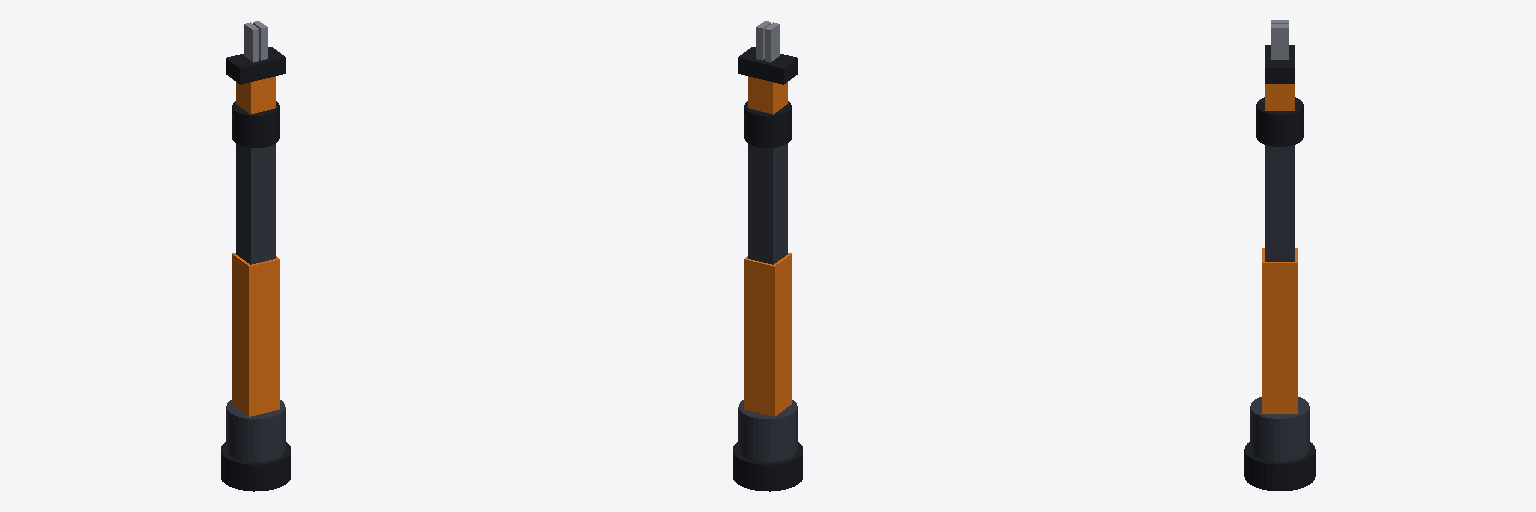
URDF robot description (arm6):
<?xml version="1.0"?>
<!--
  arm6.urdf — robot-sim-web 기본 6-DOF 로봇팔 + 평행 그리퍼
  프리미티브 지오메트리만 사용 (외부 메시 파일 불필요 — 정적 호스팅 친화).
  URDF 표준 관례상 Z-up이며, 로딩 시 scene-loader가 Y-up으로 축 변환한다 (CLAUDE.md §4).
  단위: 미터, 라디안.
-->
<robot name="arm6">

  <material name="body_dark">
    <color rgba="0.24 0.26 0.30 1.0"/>
  </material>
  <material name="accent_orange">
    <color rgba="0.90 0.49 0.13 1.0"/>
  </material>
  <material name="joint_black">
    <color rgba="0.14 0.15 0.17 1.0"/>
  </material>
  <material name="finger_gray">
    <color rgba="0.55 0.57 0.62 1.0"/>
  </material>

  <!-- ── 베이스 ─────────────────────────────────────────── -->
  <link name="base_link">
    <visual>
      <origin xyz="0 0 0.025" rpy="0 0 0"/>
      <geometry><cylinder radius="0.06" length="0.05"/></geometry>
      <material name="joint_black"/>
    </visual>
    <collision>
      <origin xyz="0 0 0.025" rpy="0 0 0"/>
      <geometry><cylinder radius="0.06" length="0.05"/></geometry>
    </collision>
    <inertial>
      <mass value="1.5"/>
      <inertia ixx="0.01" iyy="0.01" izz="0.01" ixy="0" ixz="0" iyz="0"/>
    </inertial>
  </link>

  <!-- ── J1: 베이스 회전 (yaw) ──────────────────────────── -->
  <joint name="joint1" type="revolute">
    <parent link="base_link"/>
    <child link="link1"/>
    <origin xyz="0 0 0.05" rpy="0 0 0"/>
    <axis xyz="0 0 1"/>
    <limit lower="-3.1416" upper="3.1416" effort="50" velocity="3.0"/>
  </joint>
  <link name="link1">
    <visual>
      <origin xyz="0 0 0.04" rpy="0 0 0"/>
      <geometry><cylinder radius="0.05" length="0.08"/></geometry>
      <material name="body_dark"/>
    </visual>
    <collision>
      <origin xyz="0 0 0.04" rpy="0 0 0"/>
      <geometry><cylinder radius="0.05" length="0.08"/></geometry>
    </collision>
    <inertial>
      <mass value="1.0"/>
      <inertia ixx="0.005" iyy="0.005" izz="0.005" ixy="0" ixz="0" iyz="0"/>
    </inertial>
  </link>

  <!-- ── J2: 어깨 피치 ─────────────────────────────────── -->
  <joint name="joint2" type="revolute">
    <parent link="link1"/>
    <child link="link2"/>
    <origin xyz="0 0 0.08" rpy="0 0 0"/>
    <axis xyz="0 1 0"/>
    <limit lower="-2.0" upper="2.0" effort="50" velocity="3.0"/>
  </joint>
  <link name="link2">
    <visual>
      <origin xyz="0 0 0.14" rpy="0 0 0"/>
      <geometry><box size="0.06 0.06 0.28"/></geometry>
      <material name="accent_orange"/>
    </visual>
    <collision>
      <origin xyz="0 0 0.14" rpy="0 0 0"/>
      <geometry><box size="0.06 0.06 0.28"/></geometry>
    </collision>
    <inertial>
      <mass value="0.8"/>
      <inertia ixx="0.005" iyy="0.005" izz="0.002" ixy="0" ixz="0" iyz="0"/>
    </inertial>
  </link>

  <!-- ── J3: 팔꿈치 ────────────────────────────────────── -->
  <joint name="joint3" type="revolute">
    <parent link="link2"/>
    <child link="link3"/>
    <origin xyz="0 0 0.28" rpy="0 0 0"/>
    <axis xyz="0 1 0"/>
    <limit lower="-2.6" upper="2.6" effort="40" velocity="3.0"/>
  </joint>
  <link name="link3">
    <visual>
      <origin xyz="0 0 0.11" rpy="0 0 0"/>
      <geometry><box size="0.05 0.05 0.22"/></geometry>
      <material name="body_dark"/>
    </visual>
    <collision>
      <origin xyz="0 0 0.11" rpy="0 0 0"/>
      <geometry><box size="0.05 0.05 0.22"/></geometry>
    </collision>
    <inertial>
      <mass value="0.6"/>
      <inertia ixx="0.003" iyy="0.003" izz="0.001" ixy="0" ixz="0" iyz="0"/>
    </inertial>
  </link>

  <!-- ── J4: 손목 롤 ───────────────────────────────────── -->
  <joint name="joint4" type="revolute">
    <parent link="link3"/>
    <child link="link4"/>
    <origin xyz="0 0 0.22" rpy="0 0 0"/>
    <axis xyz="0 0 1"/>
    <limit lower="-3.1416" upper="3.1416" effort="20" velocity="4.0"/>
  </joint>
  <link name="link4">
    <visual>
      <origin xyz="0 0 0.03" rpy="0 0 0"/>
      <geometry><cylinder radius="0.04" length="0.06"/></geometry>
      <material name="joint_black"/>
    </visual>
    <collision>
      <origin xyz="0 0 0.03" rpy="0 0 0"/>
      <geometry><cylinder radius="0.04" length="0.06"/></geometry>
    </collision>
    <inertial>
      <mass value="0.4"/>
      <inertia ixx="0.001" iyy="0.001" izz="0.001" ixy="0" ixz="0" iyz="0"/>
    </inertial>
  </link>

  <!-- ── J5: 손목 피치 ─────────────────────────────────── -->
  <joint name="joint5" type="revolute">
    <parent link="link4"/>
    <child link="link5"/>
    <origin xyz="0 0 0.06" rpy="0 0 0"/>
    <axis xyz="0 1 0"/>
    <limit lower="-1.9" upper="1.9" effort="20" velocity="4.0"/>
  </joint>
  <link name="link5">
    <visual>
      <origin xyz="0 0 0.03" rpy="0 0 0"/>
      <geometry><box size="0.05 0.05 0.06"/></geometry>
      <material name="accent_orange"/>
    </visual>
    <collision>
      <origin xyz="0 0 0.03" rpy="0 0 0"/>
      <geometry><box size="0.05 0.05 0.06"/></geometry>
    </collision>
    <inertial>
      <mass value="0.3"/>
      <inertia ixx="0.001" iyy="0.001" izz="0.001" ixy="0" ixz="0" iyz="0"/>
    </inertial>
  </link>

  <!-- ── J6: 손목 롤 2 (플랜지) ────────────────────────── -->
  <joint name="joint6" type="revolute">
    <parent link="link5"/>
    <child link="link6"/>
    <origin xyz="0 0 0.06" rpy="0 0 0"/>
    <axis xyz="0 0 1"/>
    <limit lower="-3.1416" upper="3.1416" effort="10" velocity="5.0"/>
  </joint>
  <link name="link6">
    <visual>
      <origin xyz="0 0 0.015" rpy="0 0 0"/>
      <geometry><box size="0.09 0.05 0.03"/></geometry>
      <material name="joint_black"/>
    </visual>
    <collision>
      <origin xyz="0 0 0.015" rpy="0 0 0"/>
      <geometry><box size="0.09 0.05 0.03"/></geometry>
    </collision>
    <inertial>
      <mass value="0.2"/>
      <inertia ixx="0.0005" iyy="0.0005" izz="0.0005" ixy="0" ixz="0" iyz="0"/>
    </inertial>
  </link>

  <!-- ── 그리퍼: 평행 프리즘 조인트 2개 ─────────────────
       값 0.0 = 닫힘, 0.03 = 완전 열림 (양쪽 대칭 구동은 제어 계층 몫) -->
  <joint name="finger_left_joint" type="prismatic">
    <parent link="link6"/>
    <child link="finger_left"/>
    <origin xyz="0.008 0 0.03" rpy="0 0 0"/>
    <axis xyz="1 0 0"/>
    <limit lower="0.0" upper="0.03" effort="10" velocity="0.1"/>
  </joint>
  <link name="finger_left">
    <visual>
      <origin xyz="0 0 0.03" rpy="0 0 0"/>
      <geometry><box size="0.012 0.03 0.06"/></geometry>
      <material name="finger_gray"/>
    </visual>
    <collision>
      <origin xyz="0 0 0.03" rpy="0 0 0"/>
      <geometry><box size="0.012 0.03 0.06"/></geometry>
    </collision>
    <inertial>
      <mass value="0.05"/>
      <inertia ixx="0.0001" iyy="0.0001" izz="0.0001" ixy="0" ixz="0" iyz="0"/>
    </inertial>
  </link>

  <joint name="finger_right_joint" type="prismatic">
    <parent link="link6"/>
    <child link="finger_right"/>
    <origin xyz="-0.008 0 0.03" rpy="0 0 0"/>
    <axis xyz="-1 0 0"/>
    <limit lower="0.0" upper="0.03" effort="10" velocity="0.1"/>
  </joint>
  <link name="finger_right">
    <visual>
      <origin xyz="0 0 0.03" rpy="0 0 0"/>
      <geometry><box size="0.012 0.03 0.06"/></geometry>
      <material name="finger_gray"/>
    </visual>
    <collision>
      <origin xyz="0 0 0.03" rpy="0 0 0"/>
      <geometry><box size="0.012 0.03 0.06"/></geometry>
    </collision>
    <inertial>
      <mass value="0.05"/>
      <inertia ixx="0.0001" iyy="0.0001" izz="0.0001" ixy="0" ixz="0" iyz="0"/>
    </inertial>
  </link>

</robot>

--- What the picture shows (computed from the rendered views, not written in the file) ---
The picture shows the robot from 3 angles, left to right: view 1: azimuth 30°, elevation 25°; view 2: azimuth 150°, elevation 25°; view 3: azimuth 270°, elevation 25°; orthographic projection.
Model arm6 with 9 links and 8 joints (6 revolute, 2 prismatic), rooted at base_link, posed every joint at zero.
Visible links, largest first — view 1: link2, link3, link1, base_link, link4, link6, link5, finger_right; view 2: link2, link3, link1, base_link, link4, link6, link5, finger_right; view 3: link2, link3, link1, base_link, link4, link6, link5, finger_left.
Boxes of the visible links, <box> form: link2: <box>232,253,279,416</box>; link3: <box>236,144,275,264</box>; link1: <box>226,400,285,461</box>; base_link: <box>221,442,290,491</box>; link4: <box>232,101,279,147</box>; link6: <box>226,47,285,84</box>; link5: <box>236,76,275,114</box>; finger_right: <box>244,22,258,62</box>; link2: <box>744,253,791,416</box>; link3: <box>748,144,787,264</box>; link1: <box>738,400,797,461</box>; base_link: <box>733,442,802,491</box>; link4: <box>744,101,791,147</box>; link6: <box>738,47,797,84</box>; link5: <box>748,76,787,114</box>; finger_right: <box>765,22,779,62</box>; link2: <box>1262,248,1297,413</box>; link3: <box>1265,145,1294,261</box>; link1: <box>1250,397,1309,461</box>; base_link: <box>1244,442,1315,490</box>; link4: <box>1256,97,1303,146</box>; link6: <box>1265,45,1294,83</box>; link5: <box>1265,84,1294,110</box>; finger_left: <box>1271,24,1288,59</box>.
Size in the robot's own frame: 0.12 by 0.12 by 0.84 metres.
Geometry: primitives only (box / cylinder / sphere), no mesh files.
